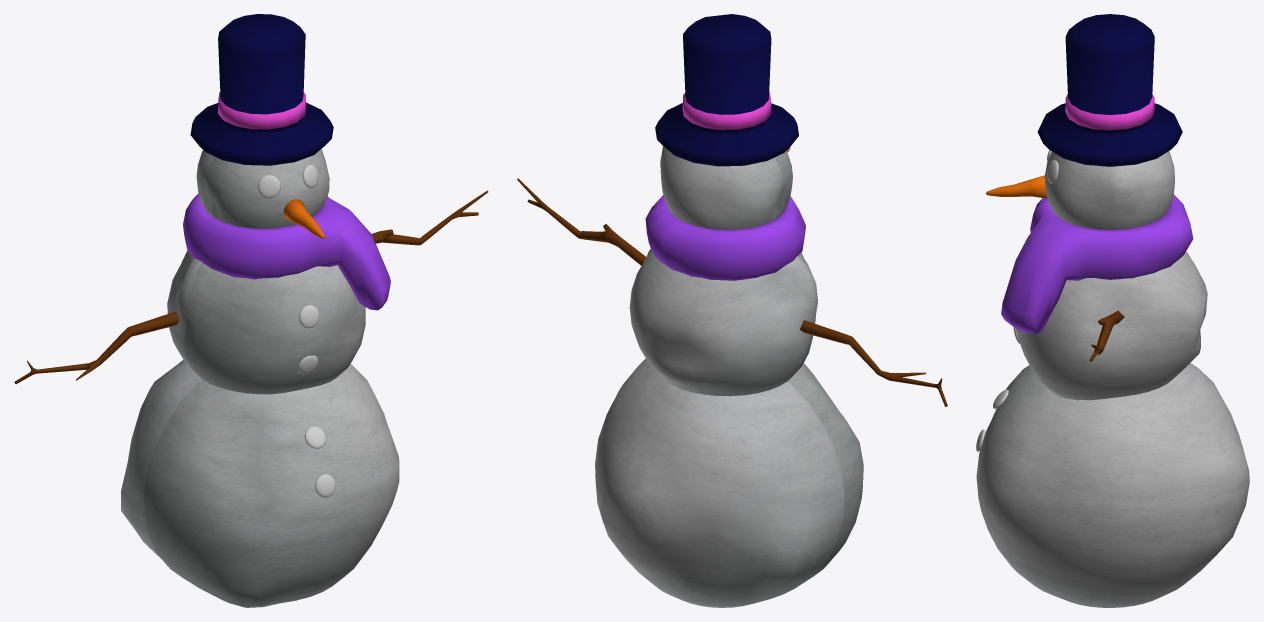
The model's file is Schneemann.fbx.
3 renders of one model, left to right at view 1: azimuth 30°, elevation 25°; view 2: azimuth 150°, elevation 25°; view 3: azimuth 270°, elevation 25°, orthographic.
Parts seen in each view (by area): view 1: Unten, Mitte, Zylinder, Schal-baumelnd, Oben, Arm-links, Arm-rechts, Moehrennase; view 2: Unten, Mitte, Zylinder, Schal-baumelnd, Oben, Arm-links, Arm-rechts; view 3: Unten, Mitte, Zylinder, Schal-baumelnd, Oben, Moehrennase, Arm-rechts.
Part boxes in pixels (<box>): Unten: <box>121,359,399,607</box>; Mitte: <box>167,250,365,394</box>; Zylinder: <box>190,14,333,165</box>; Schal-baumelnd: <box>183,193,390,310</box>; Oben: <box>196,149,329,228</box>; Arm-links: <box>14,311,179,384</box>; Arm-rechts: <box>372,190,488,245</box>; Moehrennase: <box>283,199,324,238</box>; Unten: <box>595,358,863,607</box>; Mitte: <box>629,249,817,396</box>; Zylinder: <box>655,14,798,166</box>; Schal-baumelnd: <box>645,195,805,280</box>; Oben: <box>660,146,792,229</box>; Arm-links: <box>800,320,947,406</box>; Arm-rechts: <box>517,178,646,265</box>; Unten: <box>976,363,1249,607</box>; Mitte: <box>1015,251,1207,400</box>; Zylinder: <box>1037,14,1182,166</box>; Schal-baumelnd: <box>1001,194,1193,333</box>; Oben: <box>1044,151,1174,229</box>; Moehrennase: <box>986,175,1047,198</box>; Arm-rechts: <box>1089,310,1124,361</box>.
Bounding box in the file's own units: 391 × 465 × 204.
